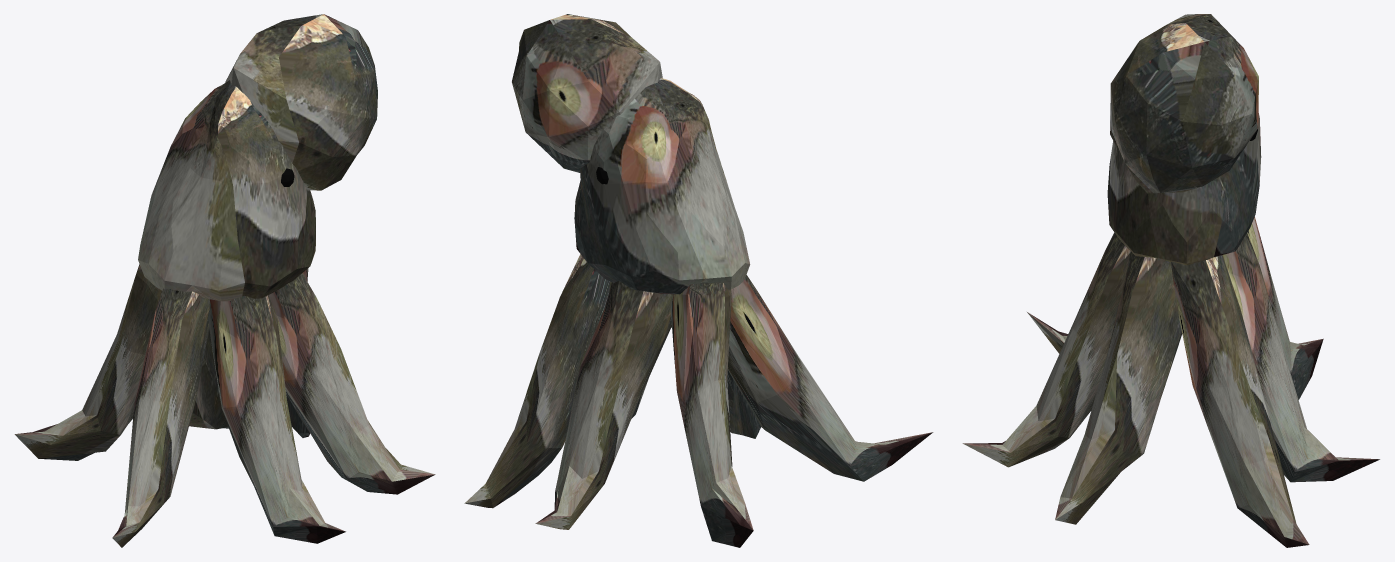
The model's file is ostorus3.glb.
The picture shows the model from 3 angles, left to right: view 1: azimuth 30°, elevation 25°; view 2: azimuth 150°, elevation 25°; view 3: azimuth 270°, elevation 25°; orthographic projection. The views are drawn at different scales.
Parts seen in each view (by area): view 1: Icosphere.001, Icosphere, Icosphere.002, Icosphere.005, Icosphere.004, Icosphere.006, Icosphere.007; view 2: Icosphere.001, Icosphere, Icosphere.007, Icosphere.004, Icosphere.006, Icosphere.008, Icosphere.002; view 3: Icosphere, Icosphere.008, Icosphere.005, Icosphere.001, Icosphere.002, Icosphere.007, Icosphere.006.
Part boxes in pixels (left/top/right/bottom): Icosphere.001: left=138, top=80, right=315, bottom=301; Icosphere: left=225, top=14, right=377, bottom=190; Icosphere.002: left=208, top=295, right=345, bottom=543; Icosphere.005: left=268, top=273, right=435, bottom=494; Icosphere.004: left=112, top=288, right=209, bottom=547; Icosphere.006: left=14, top=264, right=162, bottom=460; Icosphere.007: left=189, top=329, right=228, bottom=429; Icosphere.001: left=574, top=78, right=750, bottom=294; Icosphere: left=512, top=14, right=662, bottom=172; Icosphere.007: left=535, top=281, right=673, bottom=529; Icosphere.004: left=727, top=275, right=933, bottom=481; Icosphere.006: left=670, top=282, right=753, bottom=547; Icosphere.008: left=464, top=254, right=611, bottom=508; Icosphere.002: left=671, top=326, right=760, bottom=438; Icosphere: left=1110, top=14, right=1258, bottom=193; Icosphere.008: left=1170, top=255, right=1309, bottom=547; Icosphere.005: left=1055, top=251, right=1182, bottom=524; Icosphere.001: left=1107, top=113, right=1261, bottom=265; Icosphere.002: left=962, top=232, right=1130, bottom=467; Icosphere.007: left=1222, top=233, right=1379, bottom=482; Icosphere.006: left=1247, top=217, right=1323, bottom=399.
Bounding box in the file's own units: 5.46 × 7.1 × 5.43.
Materials: 2 (1 with a texture image).
